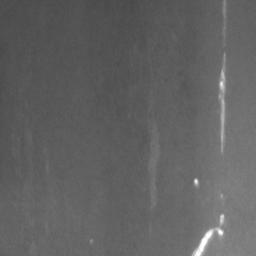Bright scratch: (192, 215, 227, 256), (219, 52, 227, 155)
